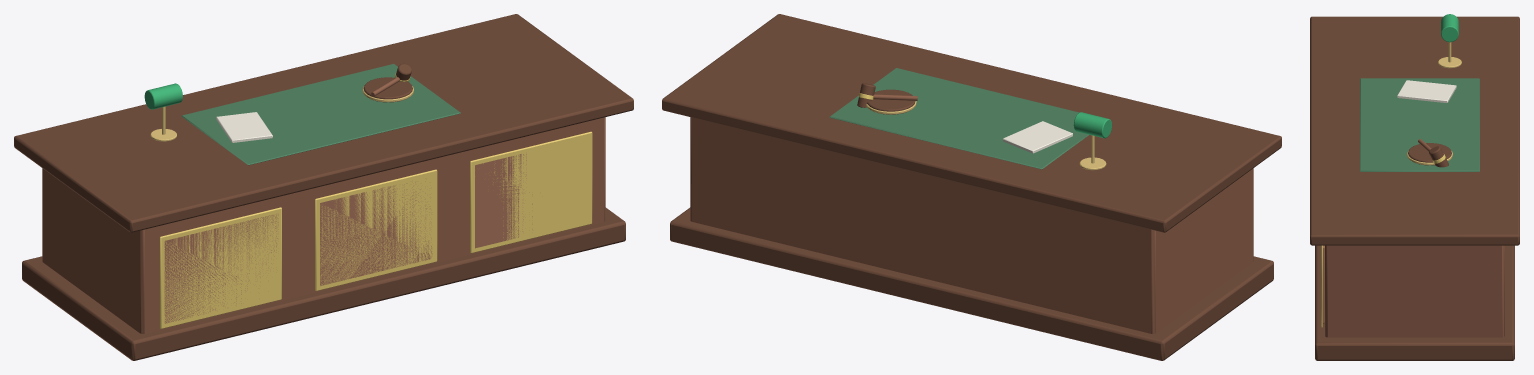
The model's file is courtroom_bench_stylized.glb.
3 renders of one model, left to right at view 1: azimuth 30°, elevation 25°; view 2: azimuth 150°, elevation 25°; view 3: azimuth 270°, elevation 25°, orthographic. The views are drawn at different scales.
Parts seen in each view (by area): view 1: Judge_Bench_Desktop, Judge_Bench_Body, Judge_Bench_Plinth, Judge_Bench_Felt, Judge_Panel_GoldTrim_0, Judge_Panel_GoldTrim_1, Judge_Panel_GoldTrim_2, Judge_Panel_Relief_1, Judge_Panel_Relief_0, Judge_Panel_Relief_2, Judge_Dossier, Gavel_Sound_Block (+1 smaller); view 2: Judge_Bench_Body, Judge_Bench_Desktop, Judge_Bench_Plinth, Judge_Bench_Felt, Judge_Dossier, Lamp_Shade, Gavel_Sound_Block; view 3: Judge_Bench_Desktop, Judge_Bench_Body, Judge_Bench_Felt, Judge_Bench_Plinth, Judge_Dossier, Gavel_Sound_Block, Lamp_Shade, Gavel_Head, Lamp_Base.
Part boxes in pixels (x1,y1,x2,y2): Judge_Bench_Desktop: (14,14,633,232); Judge_Bench_Body: (42,117,605,333); Judge_Bench_Plinth: (22,207,625,360); Judge_Bench_Felt: (181,64,460,165); Judge_Panel_GoldTrim_0: (159,207,281,328); Judge_Panel_GoldTrim_1: (315,169,437,291); Judge_Panel_GoldTrim_2: (470,131,592,253); Judge_Panel_Relief_1: (320,181,432,285); Judge_Panel_Relief_0: (164,214,278,323); Judge_Panel_Relief_2: (475,154,532,248); Judge_Dossier: (216,112,272,142); Gavel_Sound_Block: (363,77,412,102); Judge_Bench_Body: (690,117,1253,333); Judge_Bench_Desktop: (662,14,1281,232); Judge_Bench_Plinth: (670,207,1273,360); Judge_Bench_Felt: (829,68,1089,169); Judge_Dossier: (1003,121,1072,153); Lamp_Shade: (1073,112,1112,138); Gavel_Sound_Block: (867,89,915,114); Judge_Bench_Desktop: (1310,16,1519,245); Judge_Bench_Body: (1325,245,1504,337); Judge_Bench_Felt: (1360,78,1479,171); Judge_Bench_Plinth: (1315,245,1514,360); Judge_Dossier: (1397,80,1456,102); Gavel_Sound_Block: (1408,143,1451,165); Lamp_Shade: (1441,14,1458,42); Gavel_Head: (1429,146,1448,167); Lamp_Base: (1438,57,1461,68).
Bounding box in the file's own units: 5.2 × 1.91 × 2.1.
